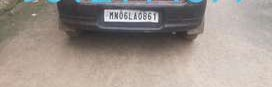MN06LA0861: (103, 9, 159, 22)
